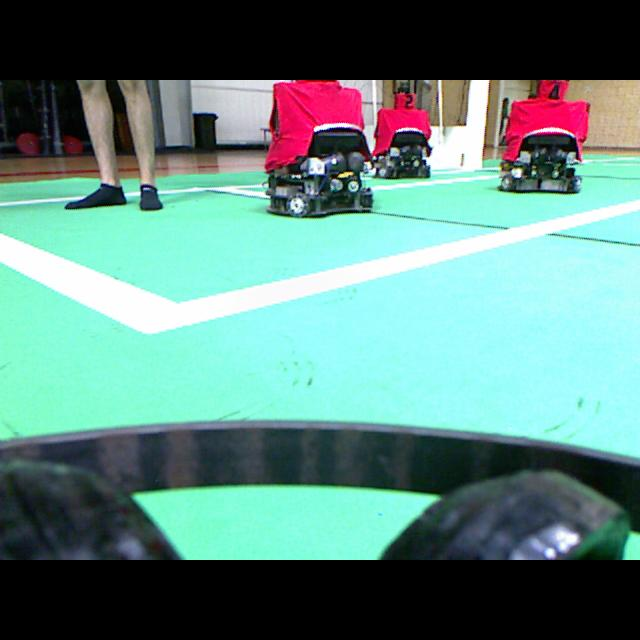goal: (465, 80, 488, 169)
